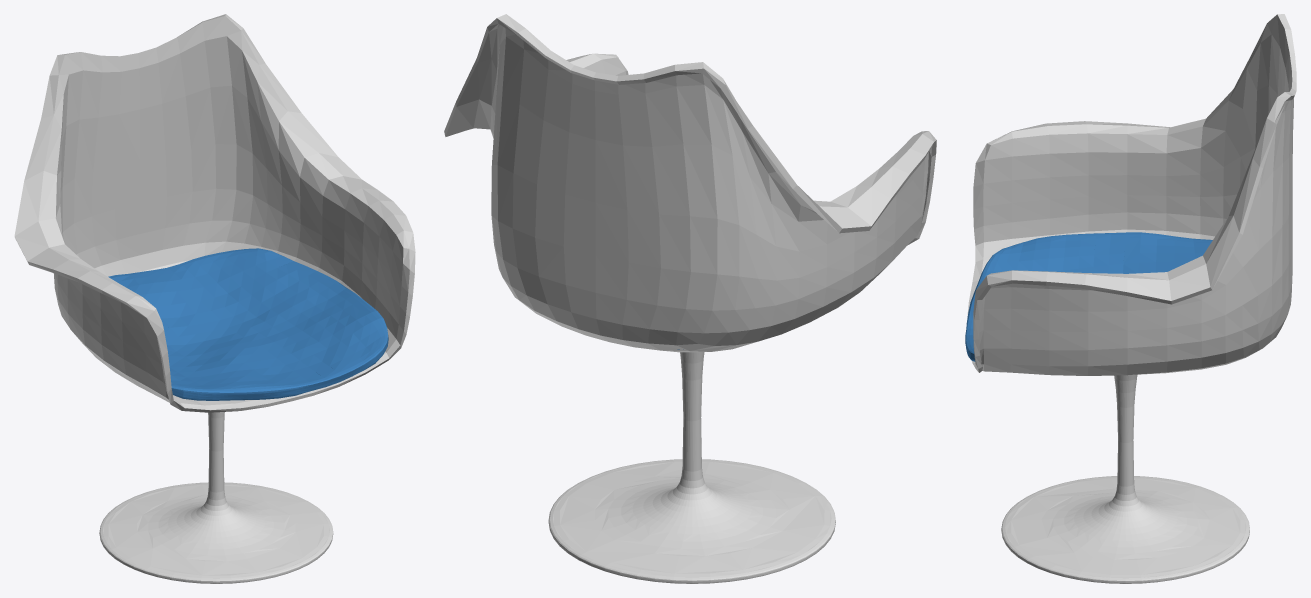
File: sweethome3d-blendswap-cc-0-chair-142.glb
3 views of the same model, side by side, from view 1: azimuth 30°, elevation 25°; view 2: azimuth 150°, elevation 25°; view 3: azimuth 270°, elevation 25° (orthographic). The views are drawn at different scales.
Visible parts, largest first — view 1: zidle.desig.sedak_Circle.002, zidle.design.polstare_Cube.001, zidle.desig.noh_Circle.003; view 2: zidle.desig.sedak_Circle.002, zidle.desig.noh_Circle.003; view 3: zidle.desig.sedak_Circle.002, zidle.desig.noh_Circle.003, zidle.design.polstare_Cube.001.
Boxes of the visible parts, left/top/right/bottom form: zidle.desig.sedak_Circle.002: left=14, top=14, right=415, bottom=412; zidle.design.polstare_Cube.001: left=108, top=248, right=388, bottom=400; zidle.desig.noh_Circle.003: left=99, top=412, right=333, bottom=583; zidle.desig.sedak_Circle.002: left=444, top=14, right=936, bottom=352; zidle.desig.noh_Circle.003: left=548, top=352, right=835, bottom=583; zidle.desig.sedak_Circle.002: left=967, top=14, right=1296, bottom=375; zidle.desig.noh_Circle.003: left=1001, top=374, right=1249, bottom=583; zidle.design.polstare_Cube.001: left=965, top=232, right=1212, bottom=361.
Bounding box in the file's own units: 77.87 × 99.42 × 62.78.
